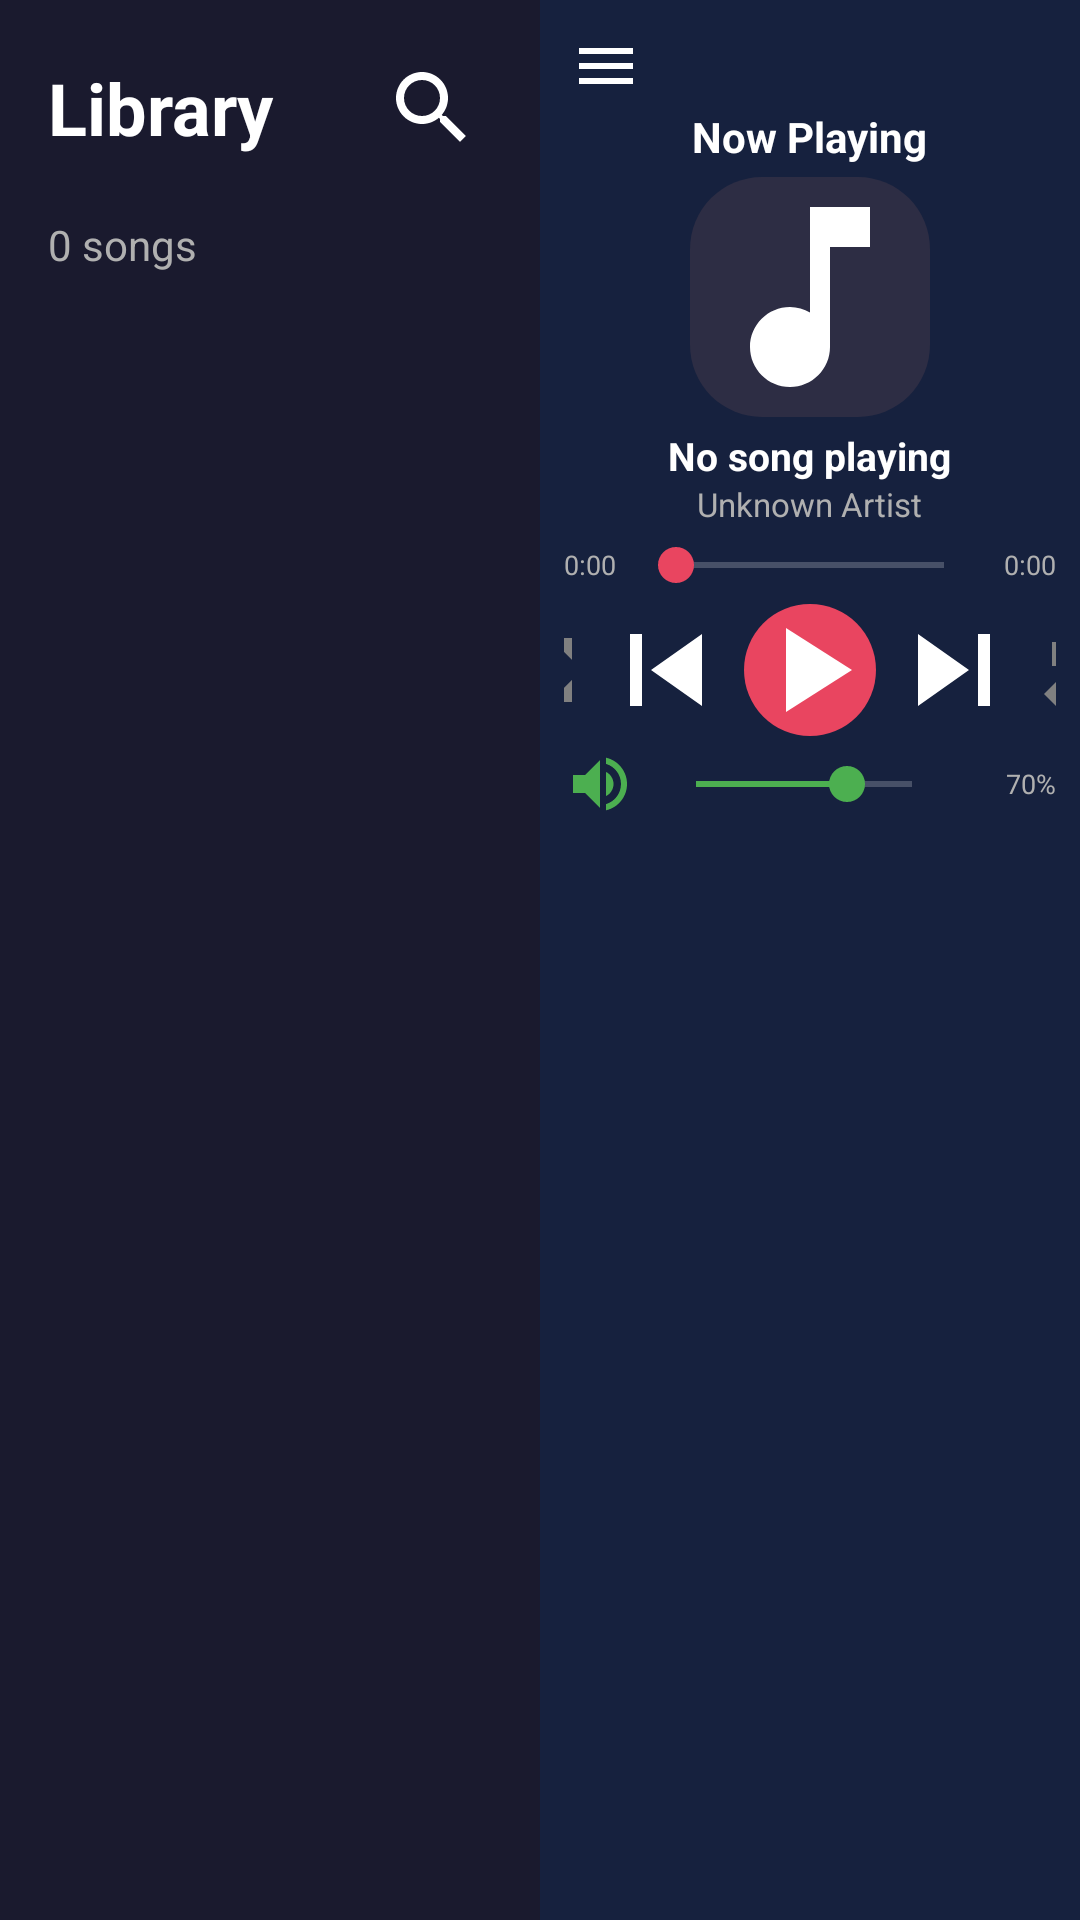

Point at icon controls on the screen. Image size 1080 × 1920, points as (x,y).
Album Art: (810,297)
Next: (954,670)
Play/Pause: (810,670)
Previous: (666,670)
Search: (431,107)
Toggle Library: (606,66)
volume: (600,784)
